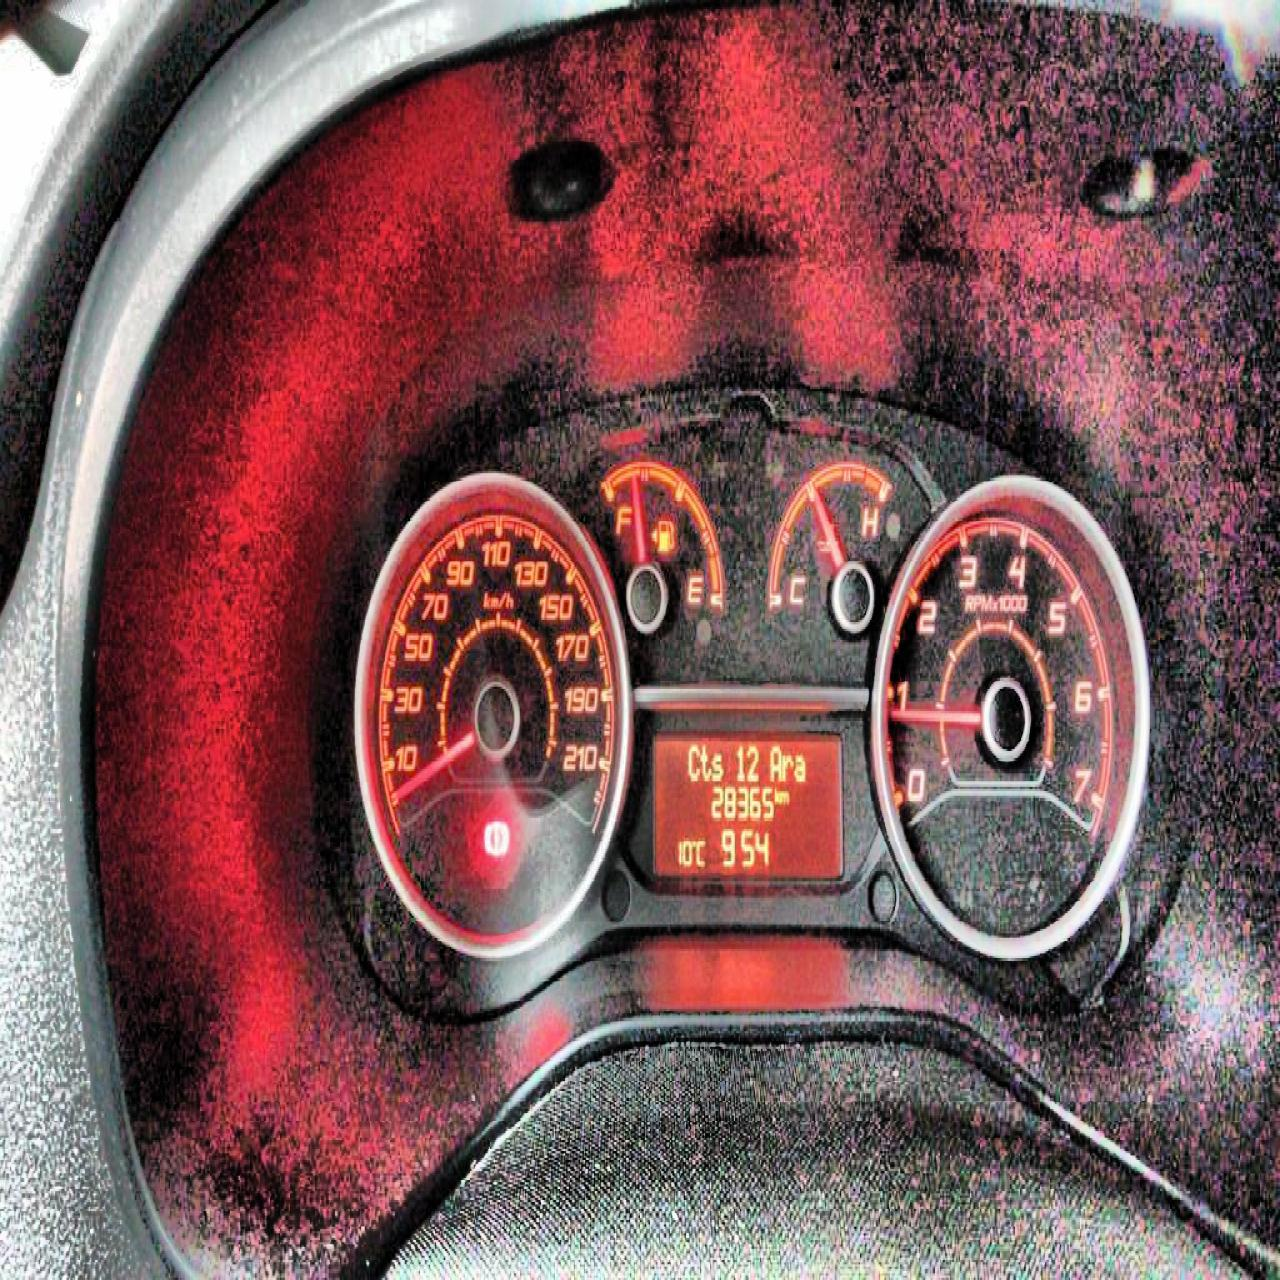0: (681, 836, 692, 866)
1: (735, 740, 745, 779), (678, 838, 681, 863)
2: (745, 742, 760, 779), (710, 784, 721, 818)
3: (736, 784, 748, 816)
4: (754, 829, 768, 864)
5: (740, 826, 753, 866), (762, 784, 772, 818)
6: (749, 784, 760, 816)
8: (723, 782, 735, 818)
9: (720, 826, 735, 866)
X: (769, 742, 782, 779), (688, 742, 699, 779), (700, 742, 710, 779), (792, 751, 805, 779), (712, 749, 722, 779), (782, 751, 792, 778), (695, 838, 704, 864), (779, 789, 789, 802), (774, 784, 778, 803)
odometer: (652, 724, 843, 883)
